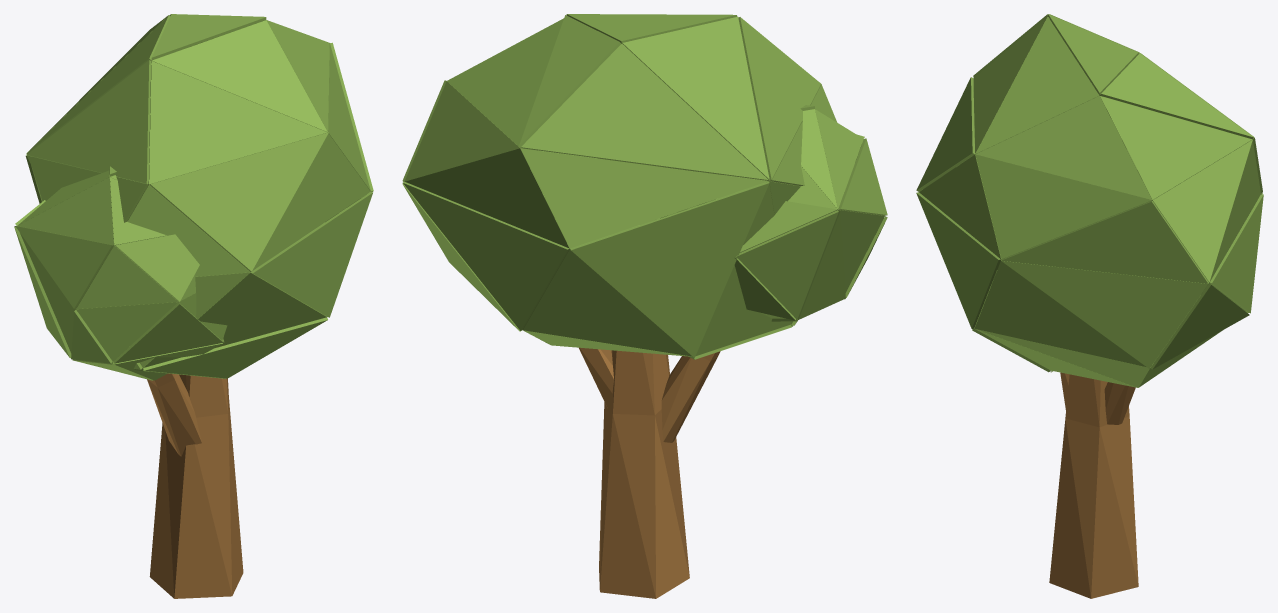
The picture shows the model from 3 angles, left to right: view 1: azimuth 30°, elevation 25°; view 2: azimuth 150°, elevation 25°; view 3: azimuth 270°, elevation 25°; orthographic projection. The views are drawn at different scales.
Parts seen in each view (by area): view 1: 普通阔叶树_3.001; view 2: 普通阔叶树_3.001; view 3: 普通阔叶树_3.001.
Part boxes in pixels (x1,y1,x2,y2): 普通阔叶树_3.001: [14, 14, 373, 598]; 普通阔叶树_3.001: [402, 14, 887, 598]; 普通阔叶树_3.001: [916, 14, 1263, 598].
Size of the model in its own units: 0.5839 by 0.85 by 0.5035.
